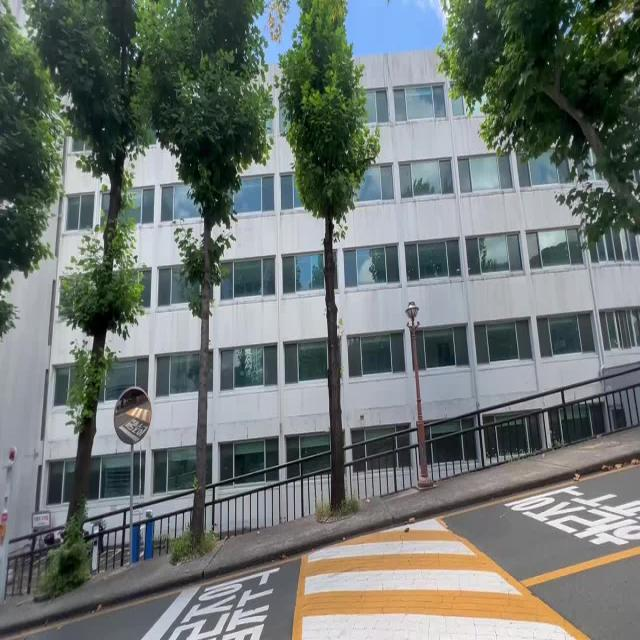building: (45, 198, 639, 471)
